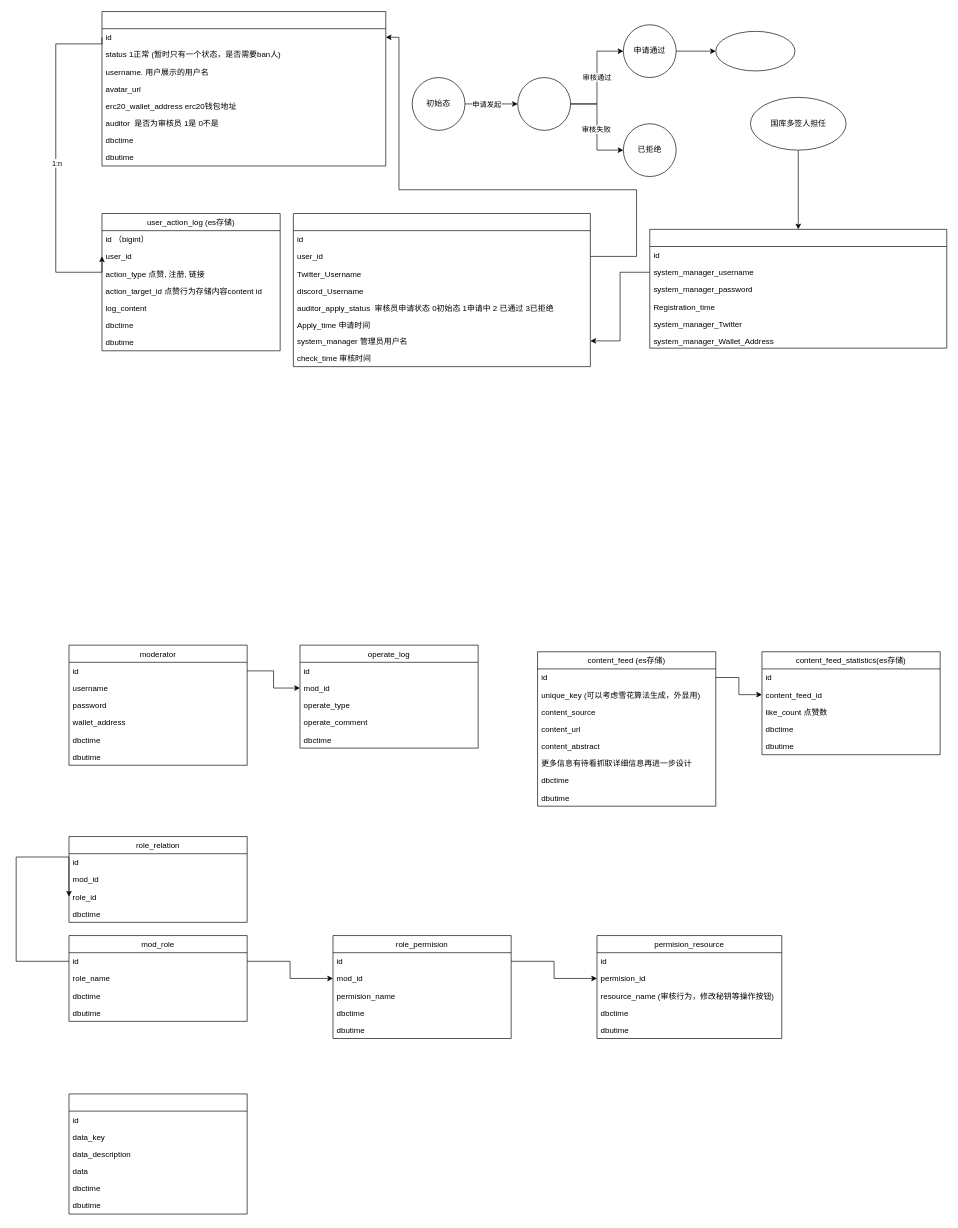
The diagram is 958 pixels wide and 1228 high, and some of its shapes have lost their labels. Here are the shapes that lost their labels. From the top down, the box of each, then its label:
(715, 31, 795, 71): 授予 auditor=1
(101, 11, 386, 166): panda_media_user
(517, 77, 571, 130): 申请中
(293, 213, 590, 367): panda_auditor
(649, 229, 947, 348): panda_system
(68, 1093, 247, 1214): panda_meta_data
